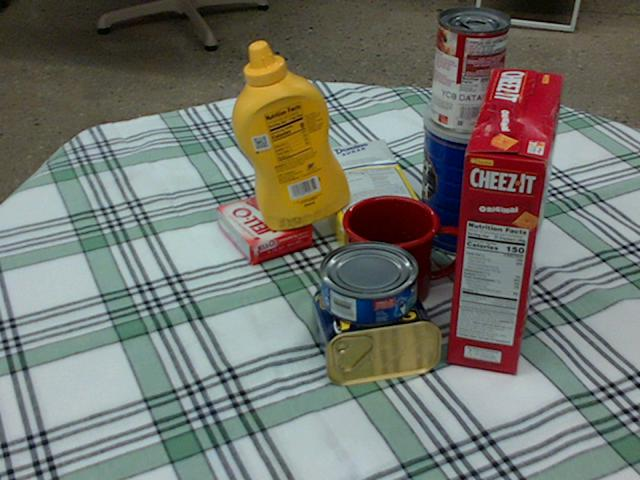cracker_box: (446, 69, 563, 374)
gelatin_box: (217, 192, 312, 266)
master_chef_can: (417, 92, 527, 256)
mug: (342, 196, 464, 312)
mustard_bottle: (231, 41, 349, 229)
potted_meat_can: (316, 269, 444, 382)
sugar_box: (307, 137, 426, 258)
tomato_soup_can: (430, 7, 508, 132)
tuna_fish_can: (319, 241, 418, 326)
